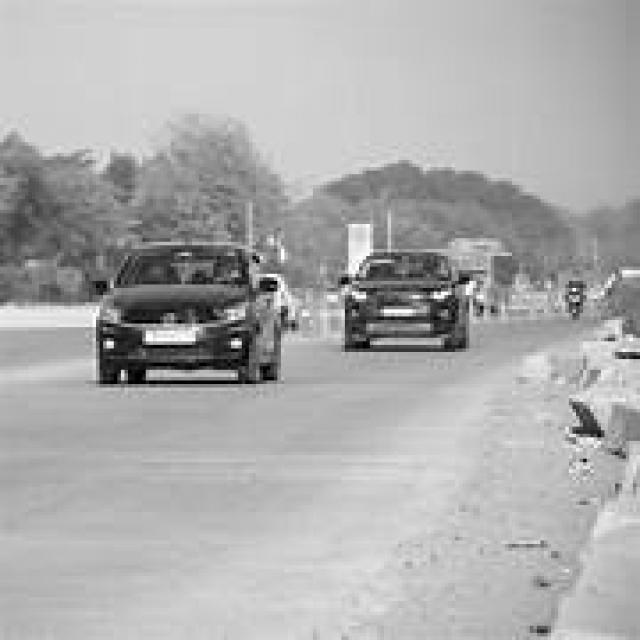Car: (98, 244, 281, 383), (345, 252, 468, 348)
